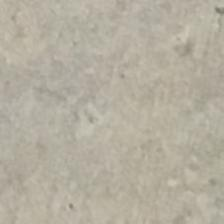Non_Crack: (33, 38, 202, 178)
